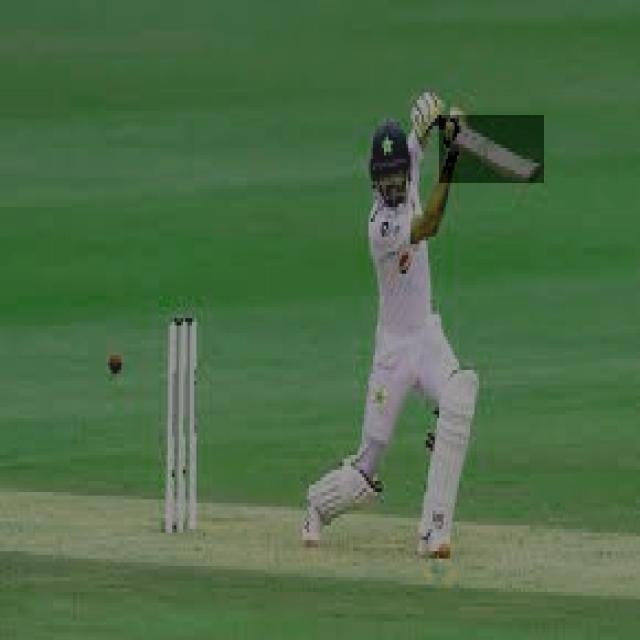bat: (439, 114, 544, 184)
toe: (519, 164, 550, 183)
